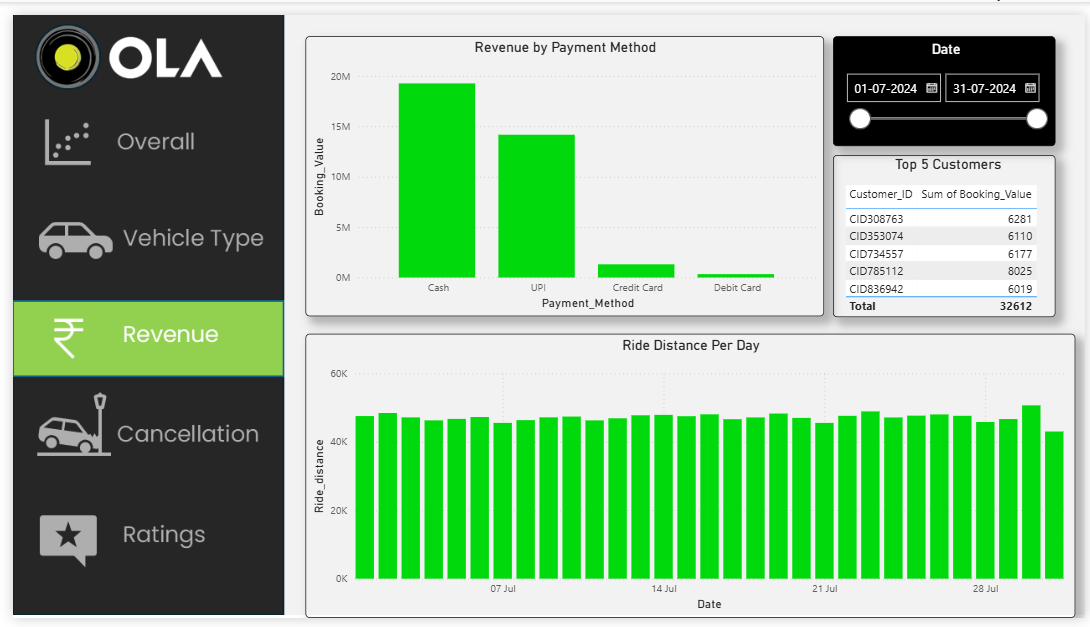

This screenshot's page, from the dashboard's own definition file:
{"tool":"powerbi","page":{"name":"Revenue","canvas":[1280,720],"ordinal":2},"visuals":[{"type":"actionButton","box":[0,223.2,323.3,92.9],"z":0},{"type":"actionButton","box":[0,447.5,323.8,105],"z":1000},{"type":"actionButton","box":[0,571.2,323.8,95],"z":2000},{"type":"actionButton","box":[0,105,323.8,88.8],"z":3000},{"type":"columnChart","title":"Revenue by Payment Method","fields":{"Y":["Sum(OLA_Bookings.Booking_Value)"],"Category":["OLA_Bookings.Payment_Method"]},"box":[349.1,26,618.9,334.7],"z":4000},{"type":"columnChart","title":"Ride Distance Per Day","fields":{"Y":["Sum(OLA_Bookings.Ride_Distance)"],"Category":["OLA_Bookings.Date"]},"box":[349.1,380.9,919,339],"z":5000},{"type":"slicer","title":"Date","fields":{"Values":["OLA_Bookings.Date"]},"box":[979.6,26,265.5,131.3],"z":6000},{"type":"tableEx","title":"Top 5 Customers","fields":{"Values":["OLA_Bookings.Customer_ID","Sum(OLA_Bookings.Booking_Value)"]},"box":[979.6,167.4,265.5,193.3],"z":7000}]}

Visuals, with their boxes in screenshot pixels (x1, y1, x2, y2), scaled from the page's 1280x720 canvas onto the 1090x627 screenshot:
actionButton: region(0, 194, 275, 275)
actionButton: region(0, 390, 276, 481)
actionButton: region(0, 497, 276, 580)
actionButton: region(0, 91, 276, 169)
"Revenue by Payment Method" columnChart: region(297, 23, 824, 314)
"Ride Distance Per Day" columnChart: region(297, 332, 1080, 626)
"Date" slicer: region(834, 23, 1060, 137)
"Top 5 Customers" tableEx: region(834, 146, 1060, 314)
